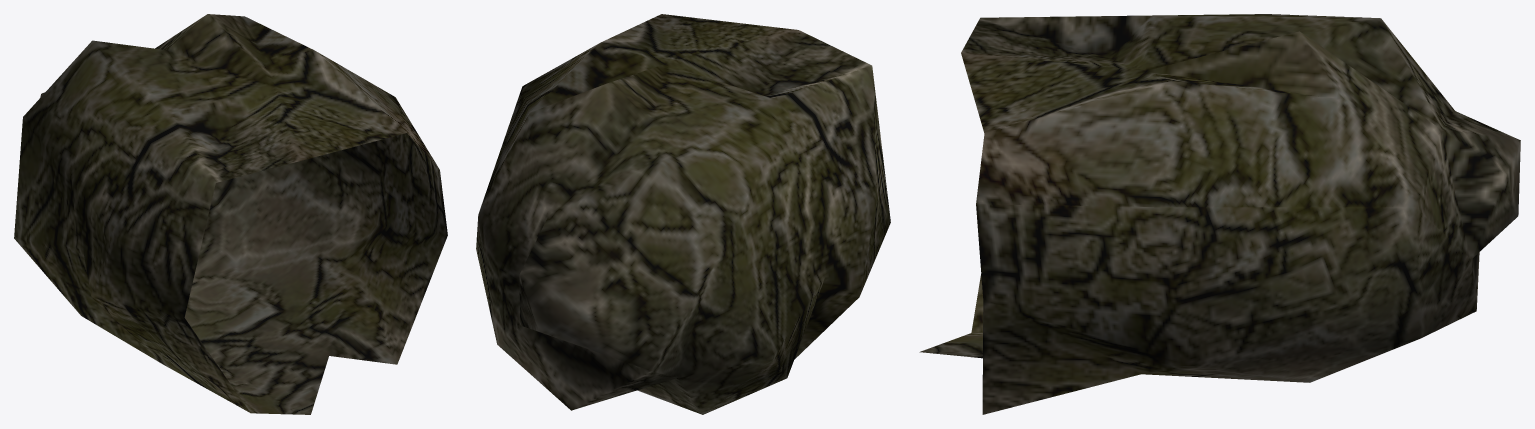
Rendered from MEP_Rock_03_a.fbx.
3 views of the same model, side by side, from view 1: azimuth 30°, elevation 25°; view 2: azimuth 150°, elevation 25°; view 3: azimuth 270°, elevation 25° (orthographic). The views are drawn at different scales.
Parts seen in each view (by area): view 1: MEP_Rock_03_a; view 2: MEP_Rock_03_a; view 3: MEP_Rock_03_a.
Boxes of the visible parts, left/top/right/bottom form: MEP_Rock_03_a: left=14, top=14, right=447, bottom=414; MEP_Rock_03_a: left=476, top=14, right=890, bottom=414; MEP_Rock_03_a: left=919, top=14, right=1520, bottom=414.
Bounding box in the file's own units: 4.67 × 4.12 × 6.28.
